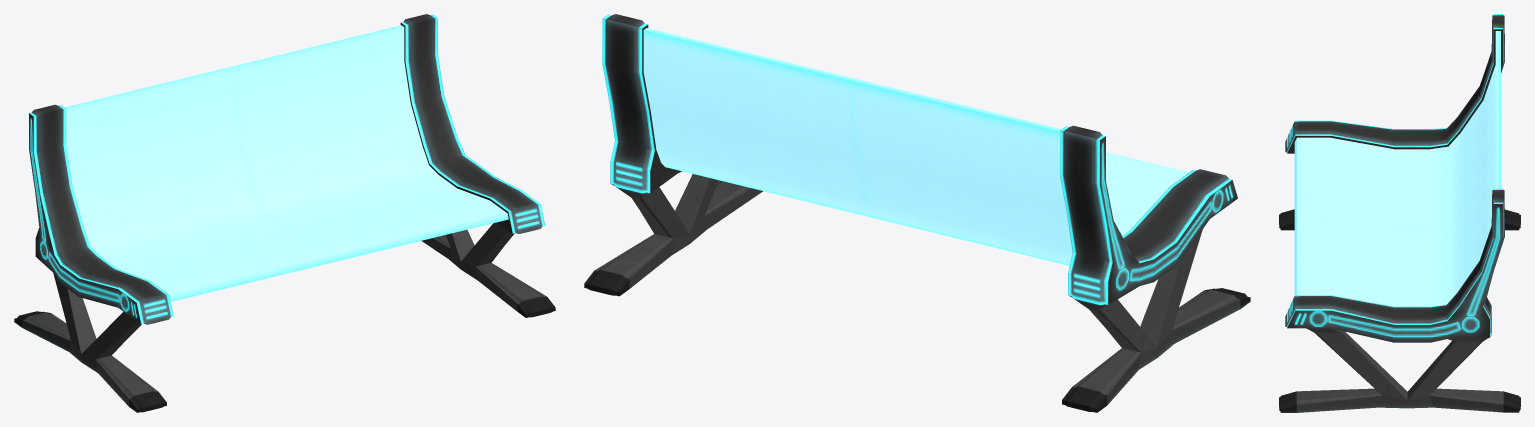
Rendered from env_ben-B_00.FBX.
The picture shows the model from 3 angles, left to right: view 1: azimuth 30°, elevation 25°; view 2: azimuth 150°, elevation 25°; view 3: azimuth 270°, elevation 25°; orthographic projection. The views are drawn at different scales.
Visible parts, largest first — view 1: bb_env_ben-B_00; view 2: bb_env_ben-B_00; view 3: bb_env_ben-B_00.
Boxes of the visible parts, <box> form: bb_env_ben-B_00: <box>14,14,555,412</box>; bb_env_ben-B_00: <box>584,14,1250,412</box>; bb_env_ben-B_00: <box>1279,14,1520,412</box>.
Bounding box in the file's own units: 1.43 × 0.7023 × 0.7433.
Materials: 1 (1 with a texture image).
